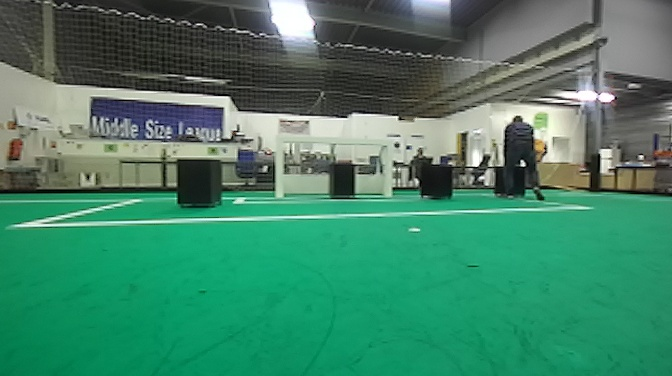goalpost: (373, 139, 401, 196), (273, 132, 288, 202)
human: (493, 109, 552, 209)
